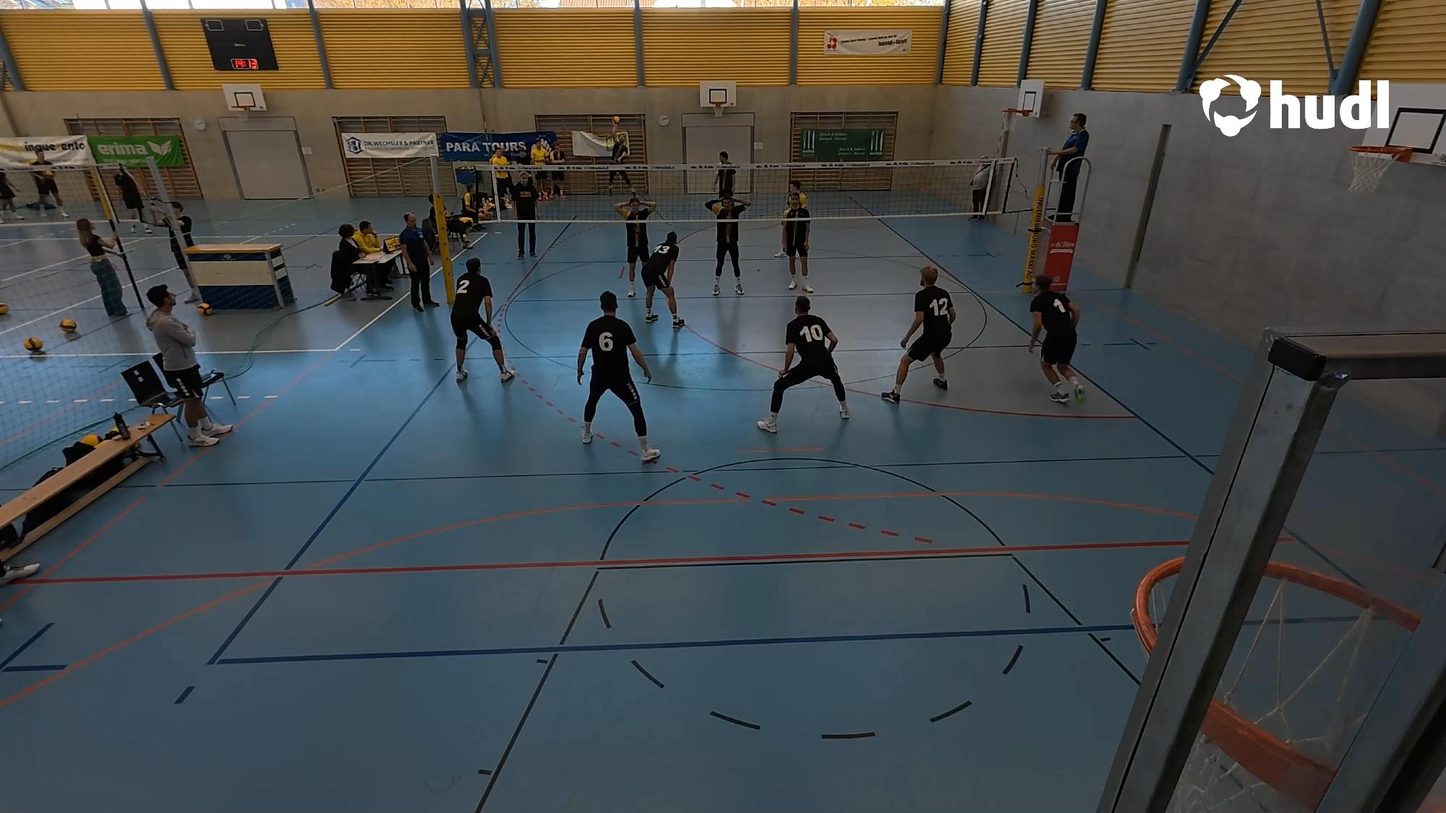Player: (574, 290, 660, 461), (756, 294, 852, 433), (879, 265, 956, 404), (451, 258, 516, 383), (1028, 273, 1084, 404), (639, 228, 688, 330), (711, 187, 747, 296), (779, 187, 812, 291), (618, 189, 652, 288), (709, 149, 739, 199)
Serve: (602, 112, 639, 199)
ball: (609, 113, 623, 126)
